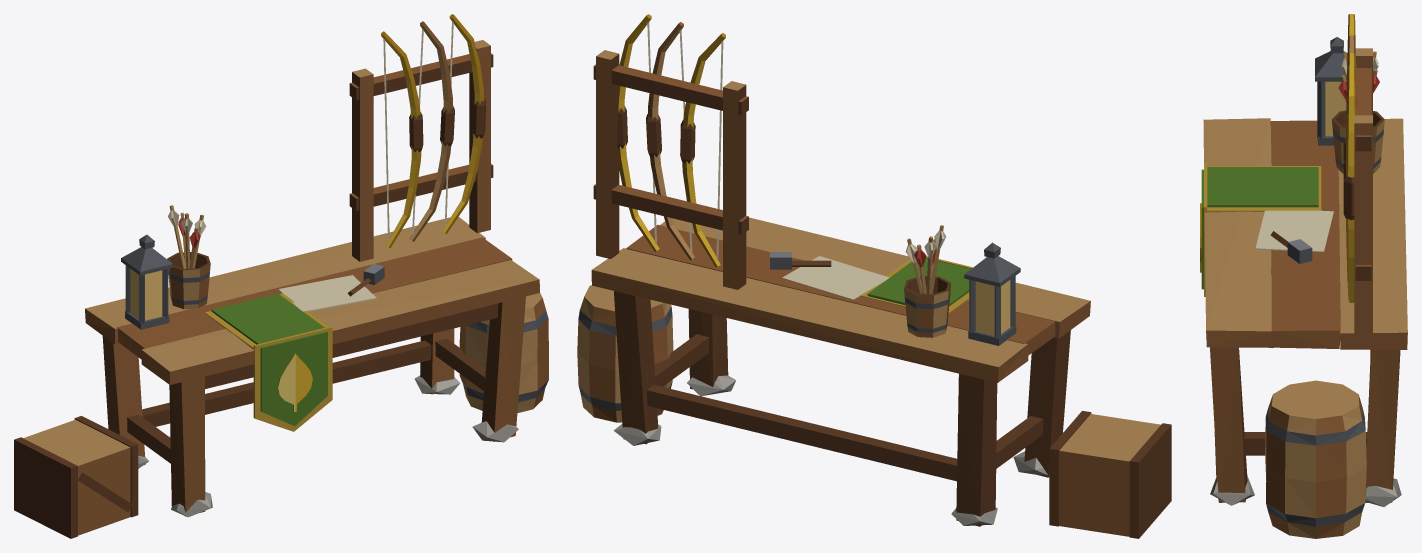
The model's file is bow_bench_2.glb.
3 renders of one model, left to right at view 1: azimuth 30°, elevation 25°; view 2: azimuth 150°, elevation 25°; view 3: azimuth 270°, elevation 25°, orthographic. The views are drawn at different scales.
Parts seen in each view (by area): view 1: bow_bench_2; view 2: bow_bench_2; view 3: bow_bench_2.
Part boxes in pixels (<box>): bow_bench_2: <box>14,14,548,538</box>; bow_bench_2: <box>577,14,1171,538</box>; bow_bench_2: <box>1200,14,1407,538</box>.
Bounding box in the file's own units: 2.67 × 1.86 × 0.7845.
